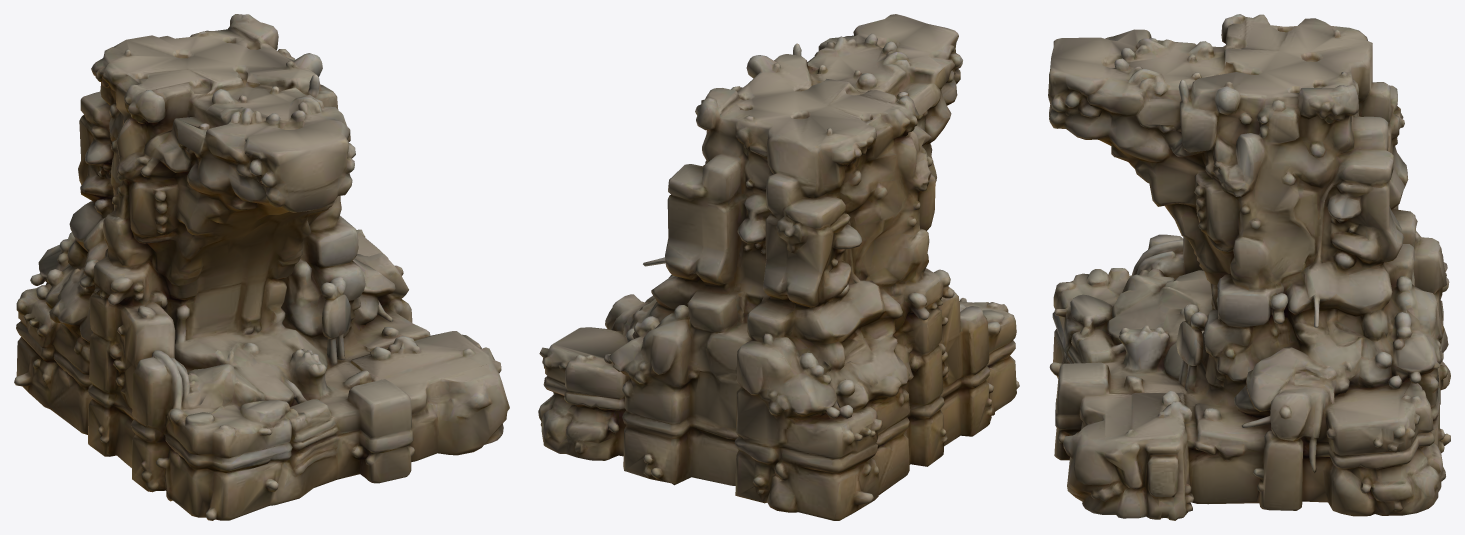
File: cav_limestone_cliff_b_overhang_LOD0.glb
The picture shows the model from 3 angles, left to right: view 1: azimuth 30°, elevation 25°; view 2: azimuth 150°, elevation 25°; view 3: azimuth 270°, elevation 25°; orthographic projection. The views are drawn at different scales.
Parts seen in each view (by area): view 1: tripo_node_d8d8335b-70f9-4c28-9559-faeaa14c2b27; view 2: tripo_node_d8d8335b-70f9-4c28-9559-faeaa14c2b27; view 3: tripo_node_d8d8335b-70f9-4c28-9559-faeaa14c2b27.
Boxes of the visible parts, x1=… form: tripo_node_d8d8335b-70f9-4c28-9559-faeaa14c2b27: x1=14, y1=14, x2=509, y2=520; tripo_node_d8d8335b-70f9-4c28-9559-faeaa14c2b27: x1=538, y1=14, x2=1019, y2=520; tripo_node_d8d8335b-70f9-4c28-9559-faeaa14c2b27: x1=1048, y1=14, x2=1450, y2=520.
Size of the model in its own units: 0.998 by 0.9941 by 0.9941.
Materials: 1 (1 with a texture image).
